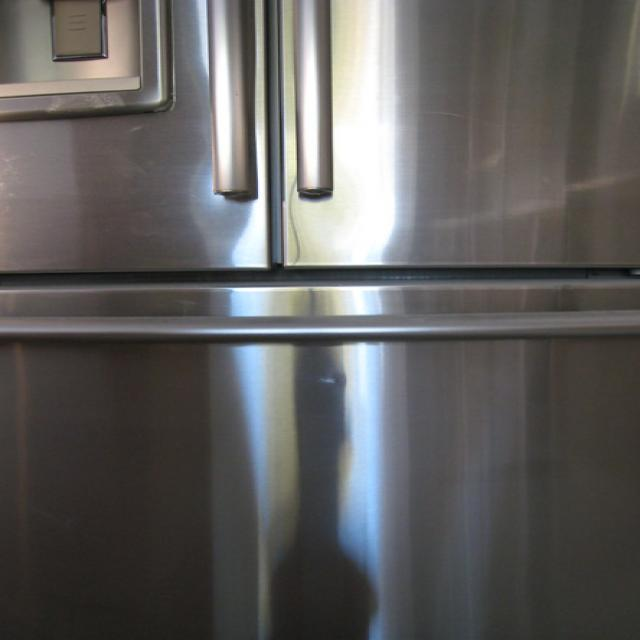dents: (299, 361, 371, 417)
